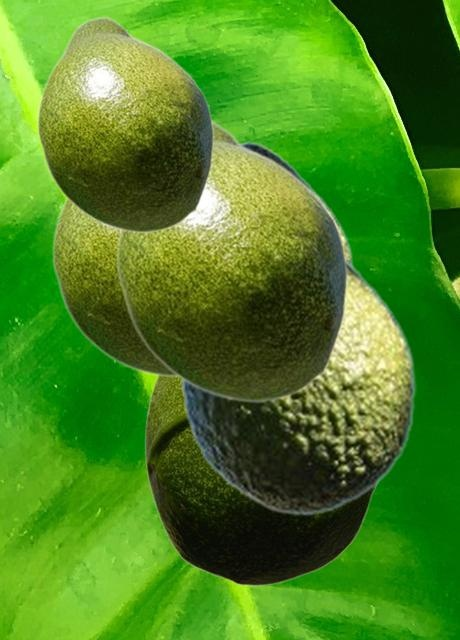avocado: (115, 119, 347, 403), (178, 251, 415, 515), (144, 377, 379, 585), (36, 16, 213, 233), (51, 198, 175, 377), (242, 141, 353, 264)
